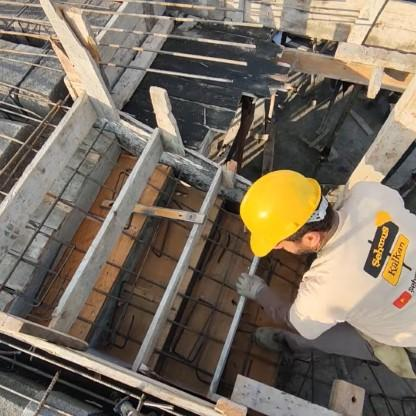helmet: (235, 150, 347, 258)
